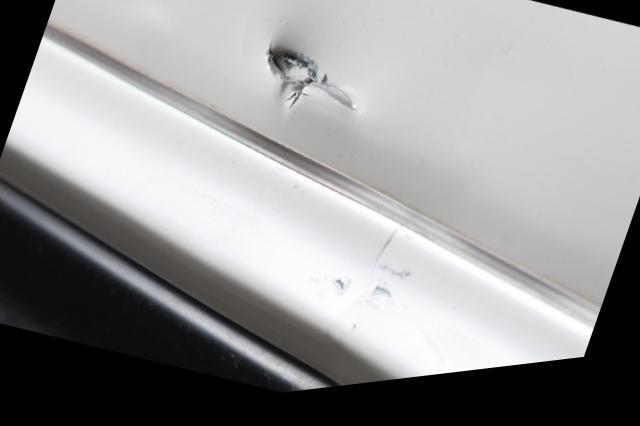dent: (262, 44, 365, 118)
